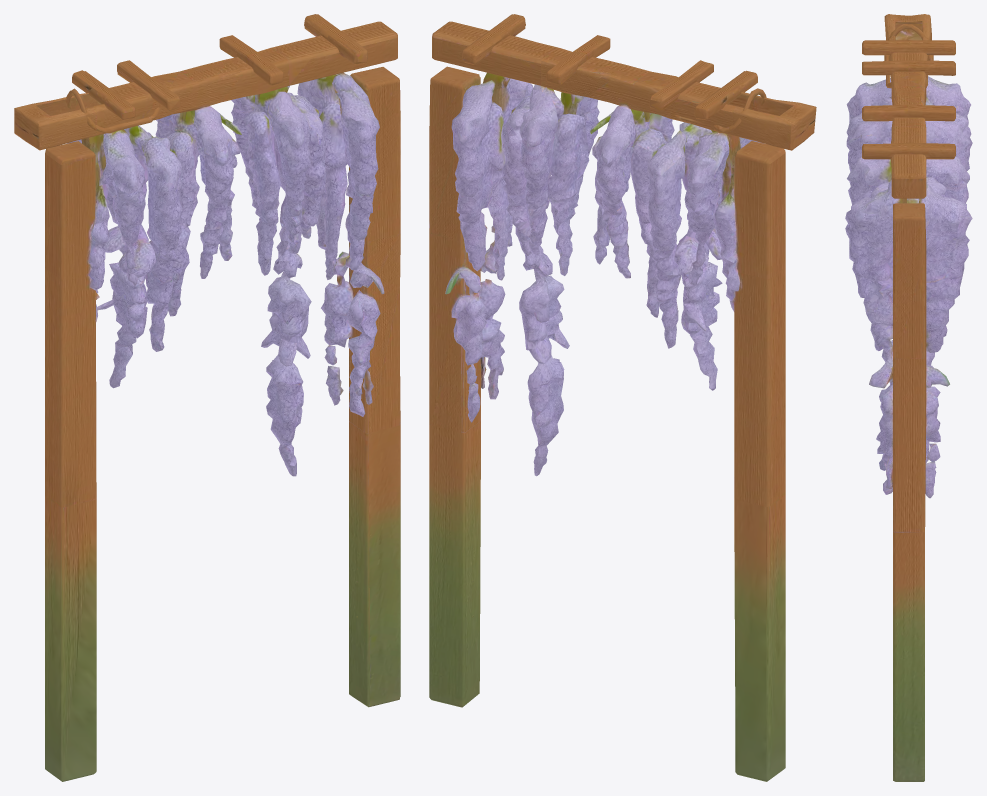
The model's file is wisteria-trellis.opt.glb.
3 views of the same model, side by side, from view 1: azimuth 30°, elevation 25°; view 2: azimuth 150°, elevation 25°; view 3: azimuth 270°, elevation 25° (orthographic). The views are drawn at different scales.
Size of the model in its own units: 1.08 by 1.91 by 0.3562.
Materials: 1 (1 with a texture image).
